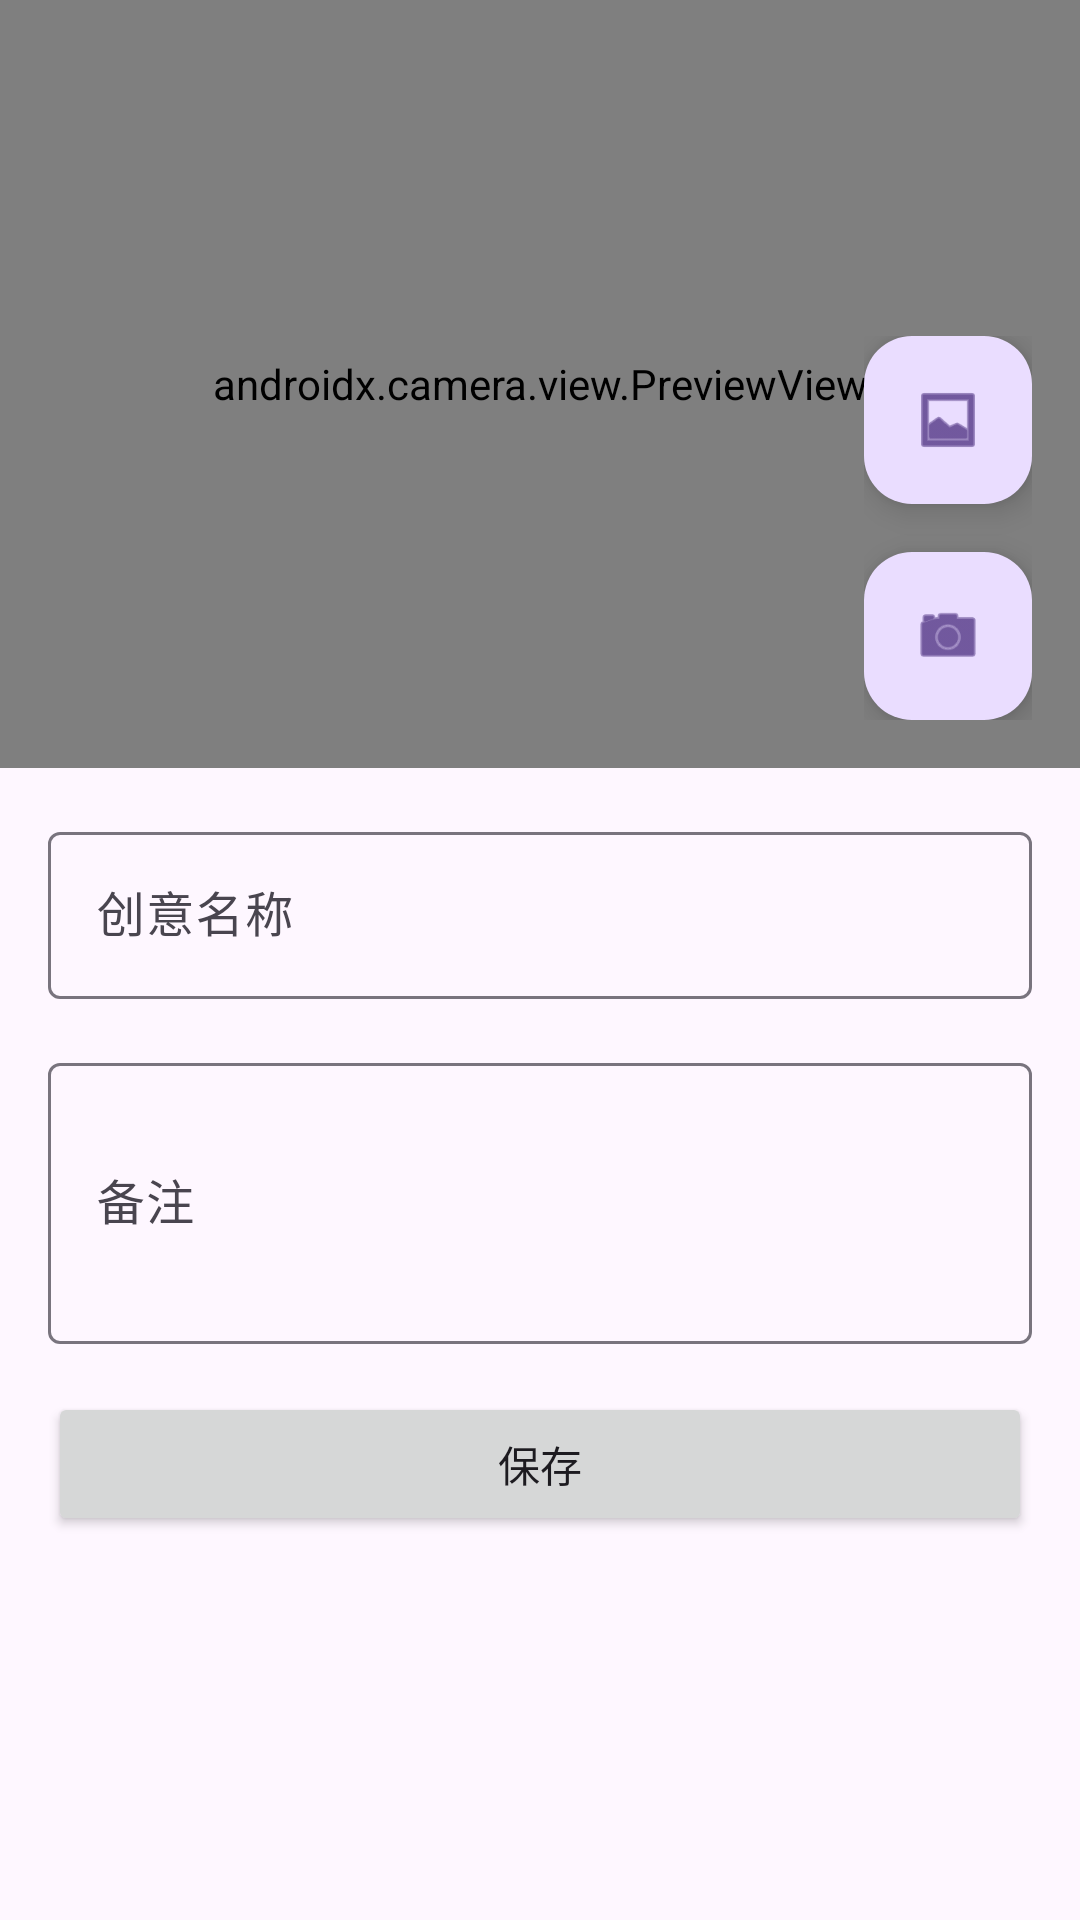

Screen size 1080 × 1920. Icon name, then its box in pixels as (x1, y1, x2, y2):
gallery: (864, 336, 1032, 504)
